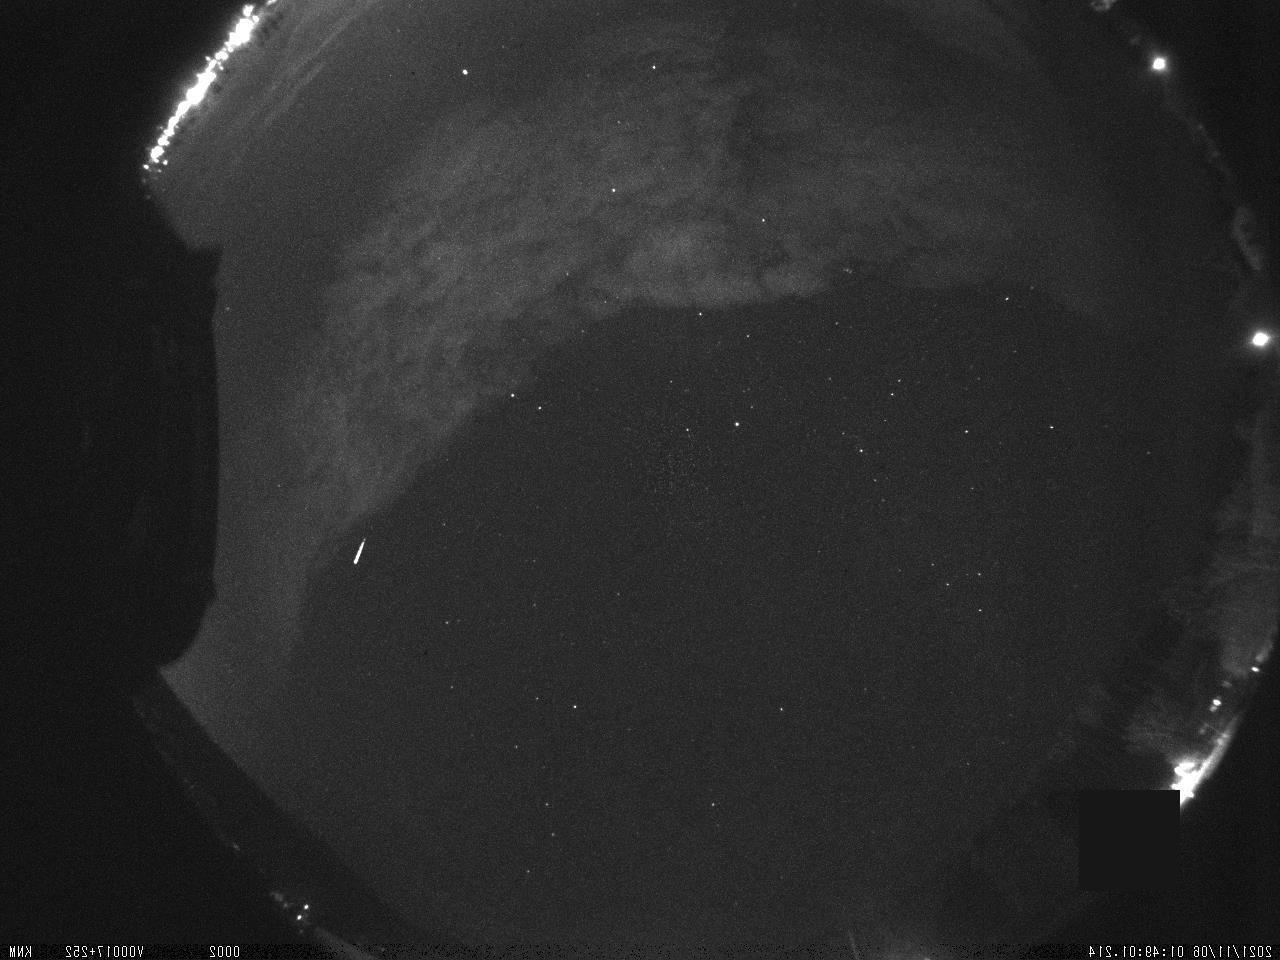meteor: (331, 523, 395, 587)
